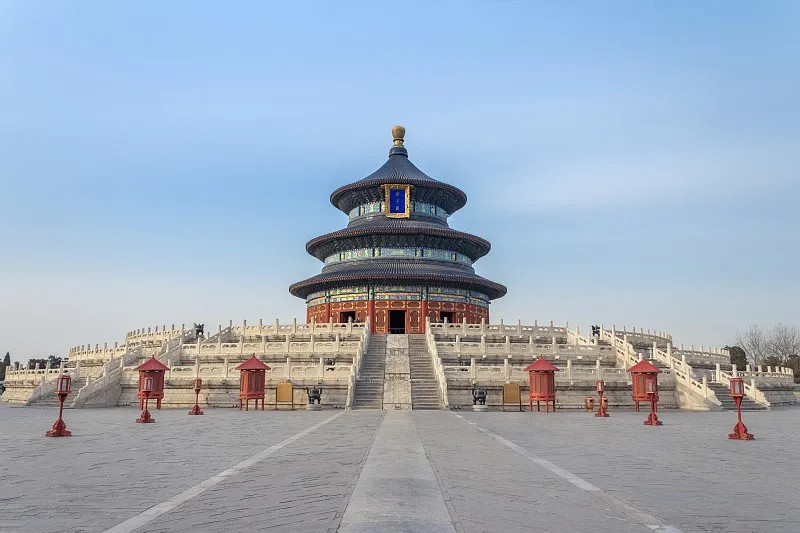Heaven: (288, 124, 509, 334)
